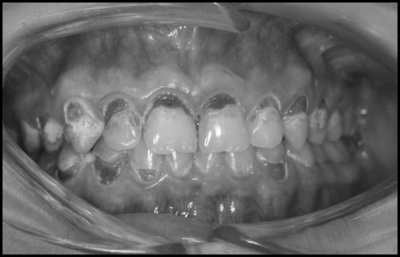karies: (90, 157, 129, 185), (101, 97, 131, 124), (153, 92, 183, 111), (286, 94, 309, 117), (266, 160, 288, 184), (54, 162, 80, 181), (204, 92, 236, 107), (64, 100, 85, 121), (137, 166, 161, 183), (257, 97, 281, 112), (36, 112, 52, 128), (314, 97, 332, 110)
